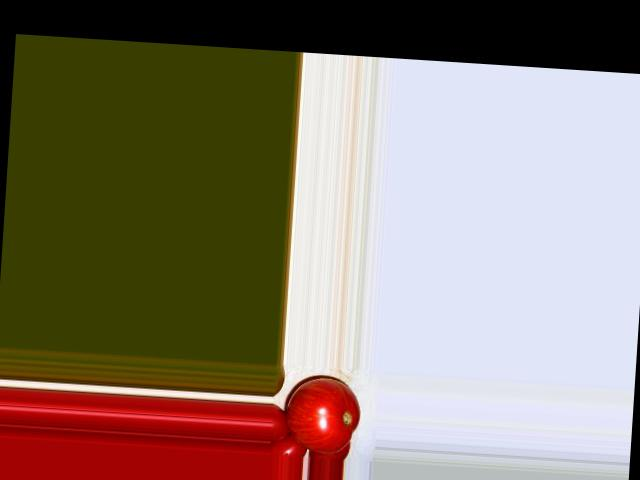tomato: (282, 375, 362, 455)
